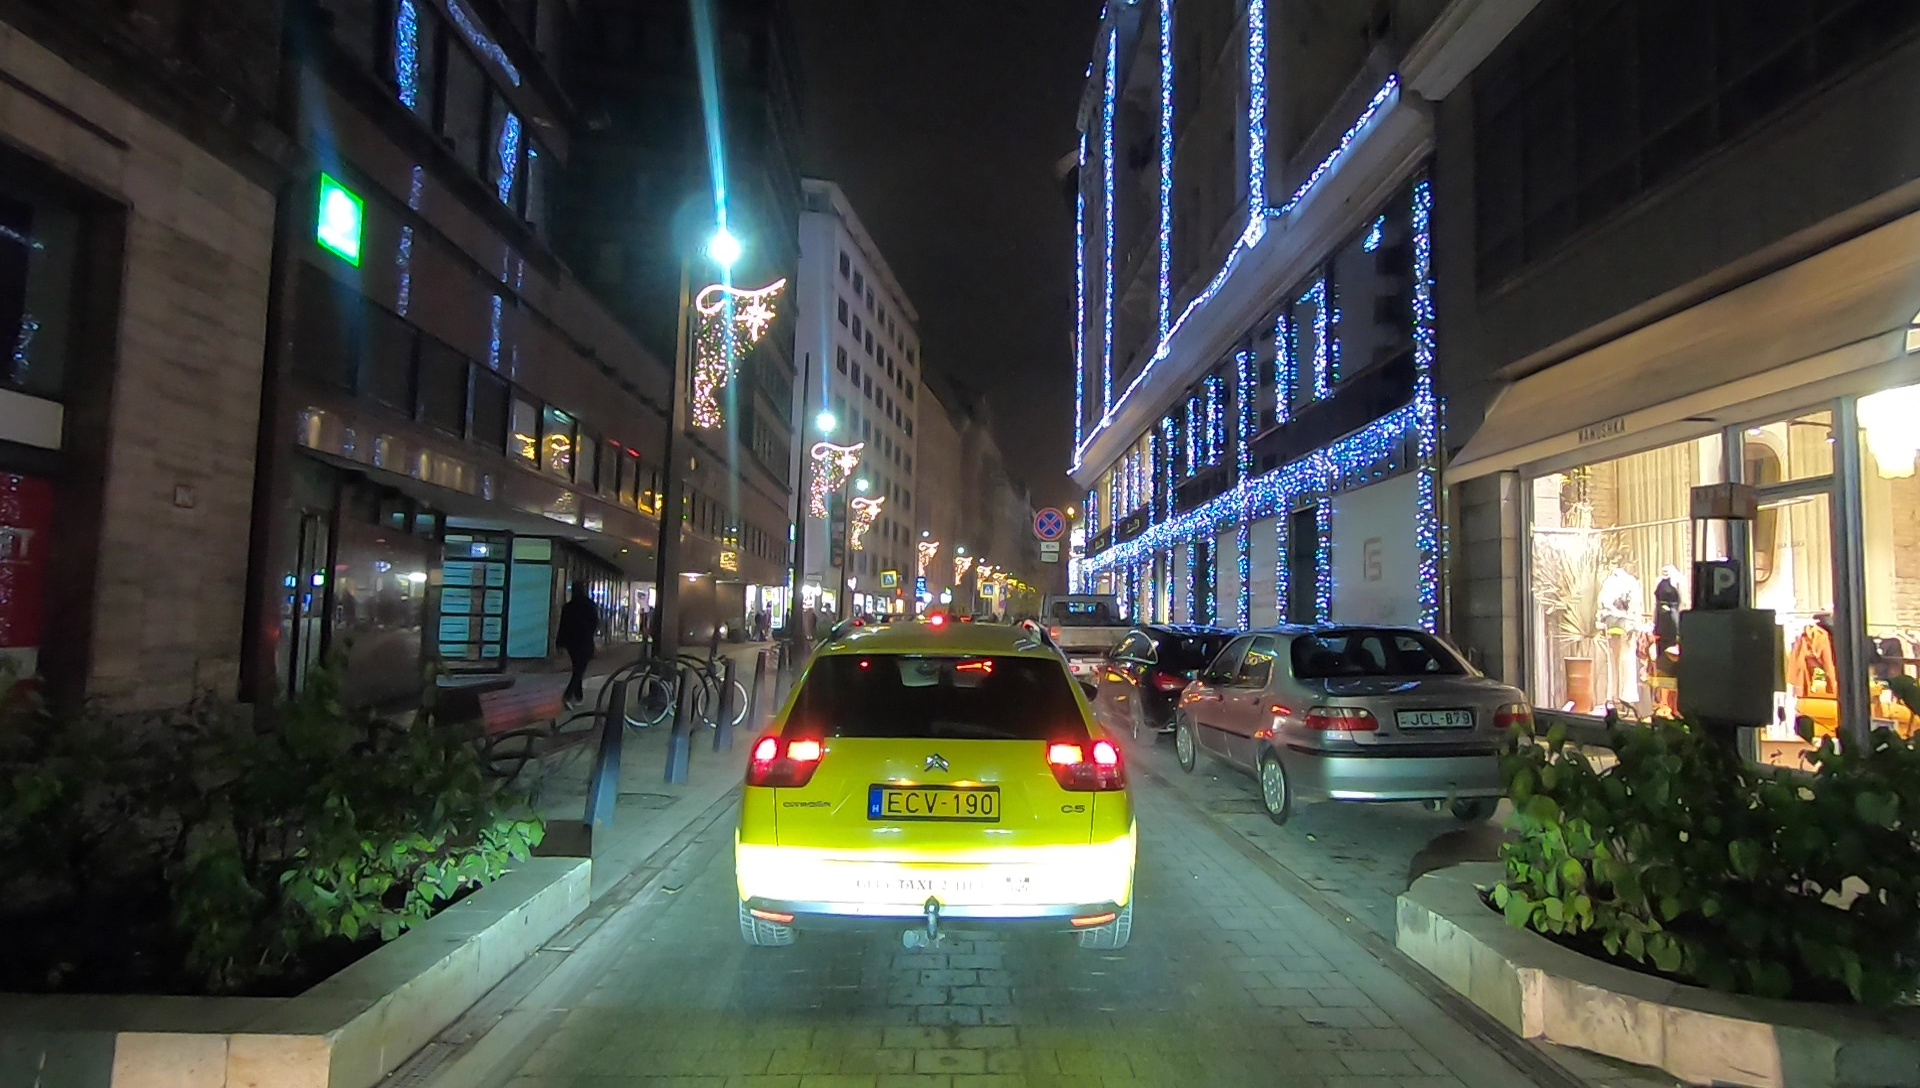person: (551, 580, 595, 713)
